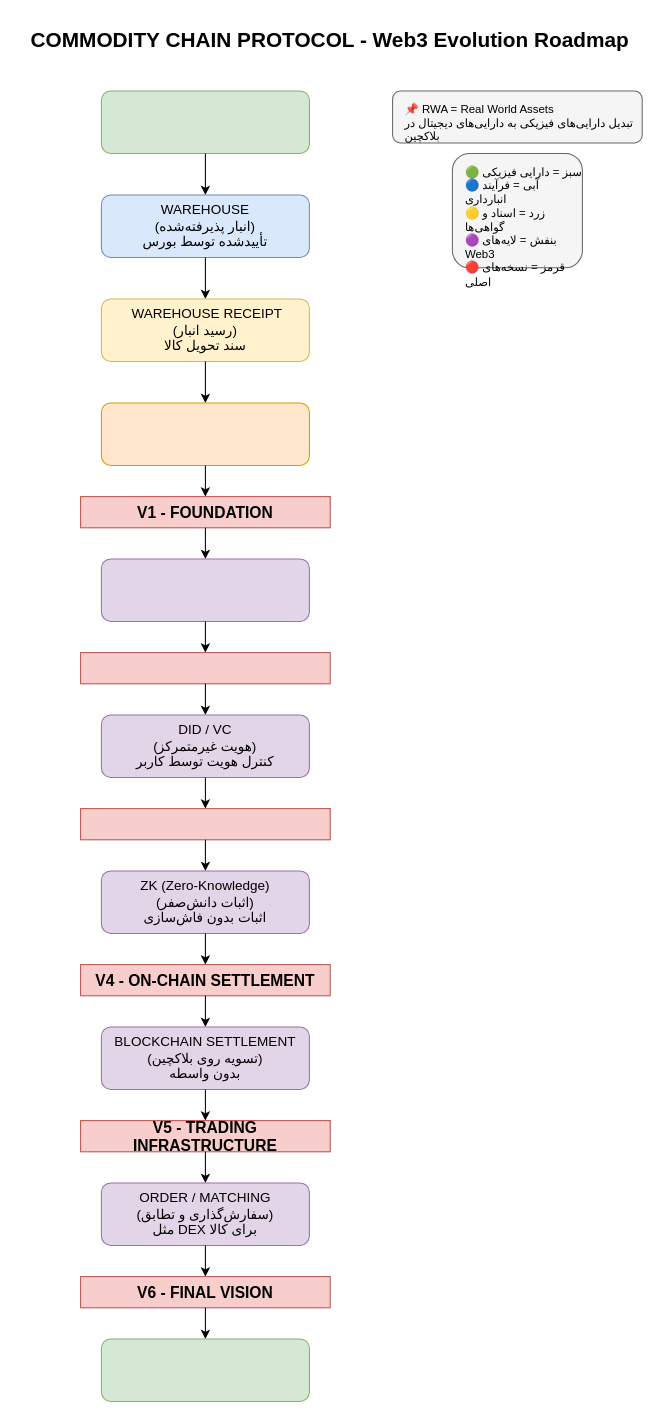
The diagram is 660 pixels wide and 1420 high, and some of its shapes have lost their labels. Here are the shapes that lost their labels. From the top down, the centre of each, then its label:
[204,121]: PHYSICAL ASSET (دارایی فیزیکی) طلا، نقره، مس
[204,433]: CERTIFICATE (گواهی سپرده) سند رسمی مالکیت
[204,589]: MULTISIG WALLET (کیف پول چندامضایی) تأیید ۳ از ۵ نفر
[205,668]: V2 - DIGITAL IDENTITY
[205,824]: V3 - PRIVACY & SCALABILITY
[204,1369]: DEFI / RWA (امور مالی غیرمتمرکز) کالا → ابزار مالی
